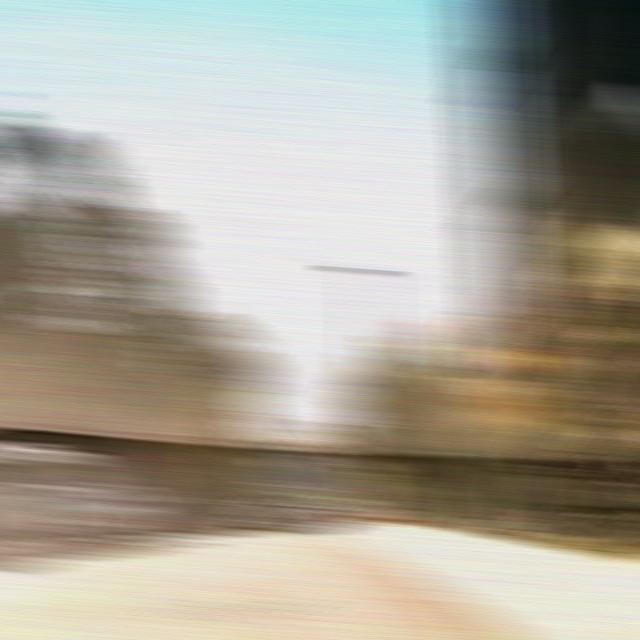pedestrianCrossing: (482, 372, 548, 432)
